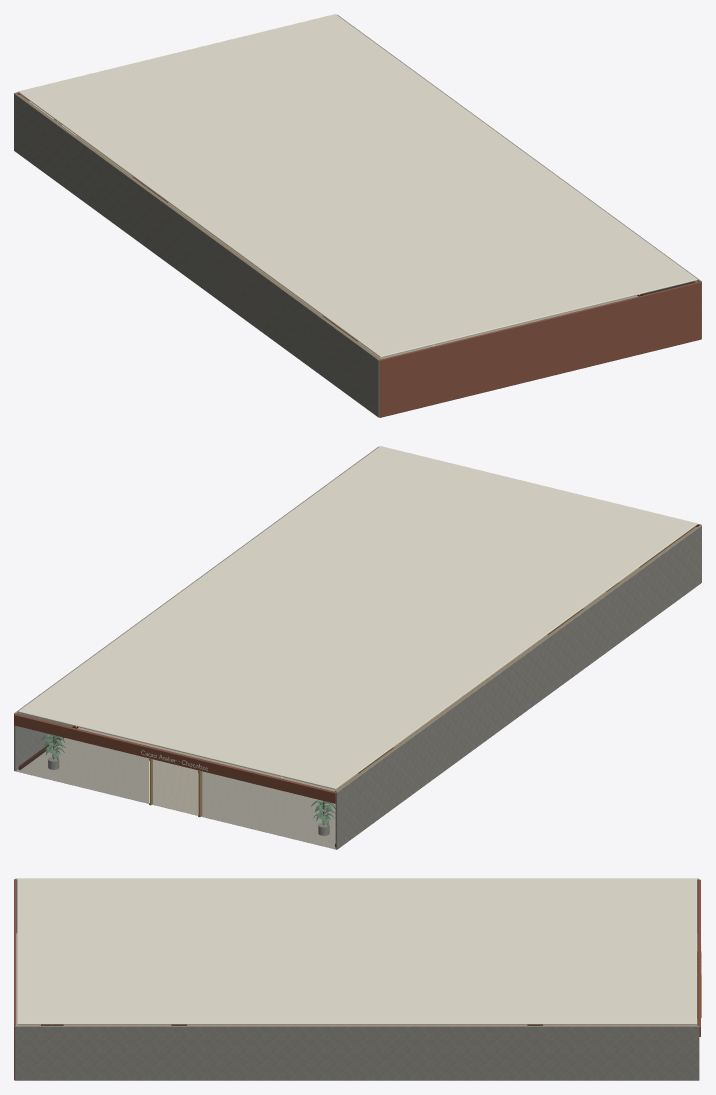
Rendered from chocolate.glb.
3 renders of one model, top to bottom at view 1: azimuth 30°, elevation 25°; view 2: azimuth 150°, elevation 25°; view 3: azimuth 270°, elevation 25°, orthographic. The views are drawn at different scales.
Visible parts, largest first — view 1: Batched AUR-B1-CHOCOLATE::Warm porcelain, Batched AUR-B1-CHOCOLATE::Travertine, Batched AUR-B1-CHOCOLATE::Tenant chocolate, Batched AUR-B1-CHOCOLATE::Cream marble, Batched AUR-B1-CHOCOLATE::Bronze; view 2: Batched AUR-B1-CHOCOLATE::Warm porcelain, Batched AUR-B1-CHOCOLATE::Travertine, Batched AUR-B1-CHOCOLATE::Cream marble, Batched AUR-B1-CHOCOLATE::Tenant glass, Batched AUR-B1-CHOCOLATE::Tenant chocolate, Batched AUR-B1-CHOCOLATE::Bronze, Batched AUR-B1-CHOCOLATE::Foliage; view 3: Batched AUR-B1-CHOCOLATE::Warm porcelain, Batched AUR-B1-CHOCOLATE::Travertine, Batched AUR-B1-CHOCOLATE::Cream marble, Batched AUR-B1-CHOCOLATE::Tenant chocolate, Batched AUR-B1-CHOCOLATE::Bronze.
Part boxes in pixels (x1,y1,x2,y2): Batched AUR-B1-CHOCOLATE::Warm porcelain: [18, 14, 697, 357]; Batched AUR-B1-CHOCOLATE::Travertine: [14, 14, 701, 417]; Batched AUR-B1-CHOCOLATE::Tenant chocolate: [14, 92, 701, 417]; Batched AUR-B1-CHOCOLATE::Cream marble: [76, 135, 638, 359]; Batched AUR-B1-CHOCOLATE::Bronze: [19, 95, 697, 359]; Batched AUR-B1-CHOCOLATE::Warm porcelain: [18, 446, 697, 789]; Batched AUR-B1-CHOCOLATE::Travertine: [14, 446, 701, 849]; Batched AUR-B1-CHOCOLATE::Cream marble: [15, 567, 639, 849]; Batched AUR-B1-CHOCOLATE::Tenant glass: [16, 726, 335, 848]; Batched AUR-B1-CHOCOLATE::Tenant chocolate: [14, 524, 701, 803]; Batched AUR-B1-CHOCOLATE::Bronze: [18, 527, 696, 817]; Batched AUR-B1-CHOCOLATE::Foliage: [40, 734, 335, 826]; Batched AUR-B1-CHOCOLATE::Warm porcelain: [17, 878, 701, 1024]; Batched AUR-B1-CHOCOLATE::Travertine: [15, 878, 699, 1080]; Batched AUR-B1-CHOCOLATE::Cream marble: [16, 933, 697, 1025]; Batched AUR-B1-CHOCOLATE::Tenant chocolate: [14, 879, 700, 1080]; Batched AUR-B1-CHOCOLATE::Bronze: [19, 951, 701, 1025].
Size of the model in its own units: 28.16 by 4.97 by 55.29.
Materials: 12 (4 with a texture image).
